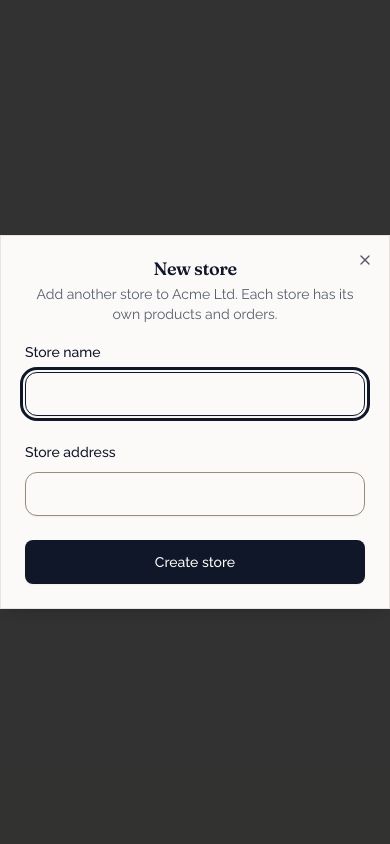
it: NewStoreDialog › keeps the Retry setup path for a store whose setup FAILED
This screenshot has width=390, height=844.
Type "Second Shop" into the field labelled "Store name" at (195, 394), box top-left (25, 372), bottom-right (365, 416)
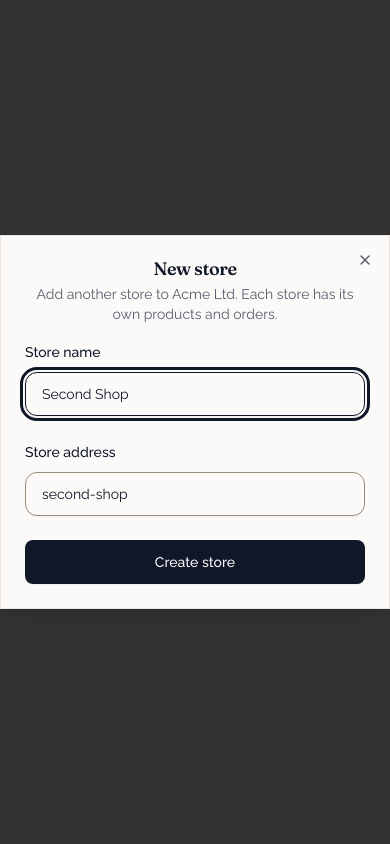
Click the button "Create store" at (195, 562), box top-left (25, 540), bottom-right (365, 584)
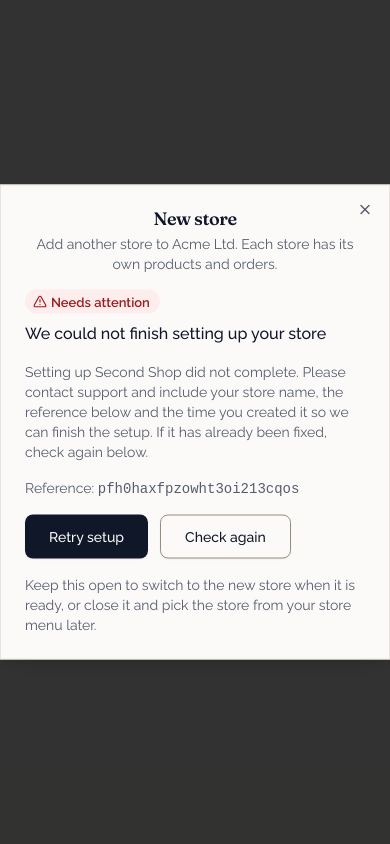
expect the button "Retry setup" is shown: met, box top-left (25, 514), bottom-right (148, 558)
